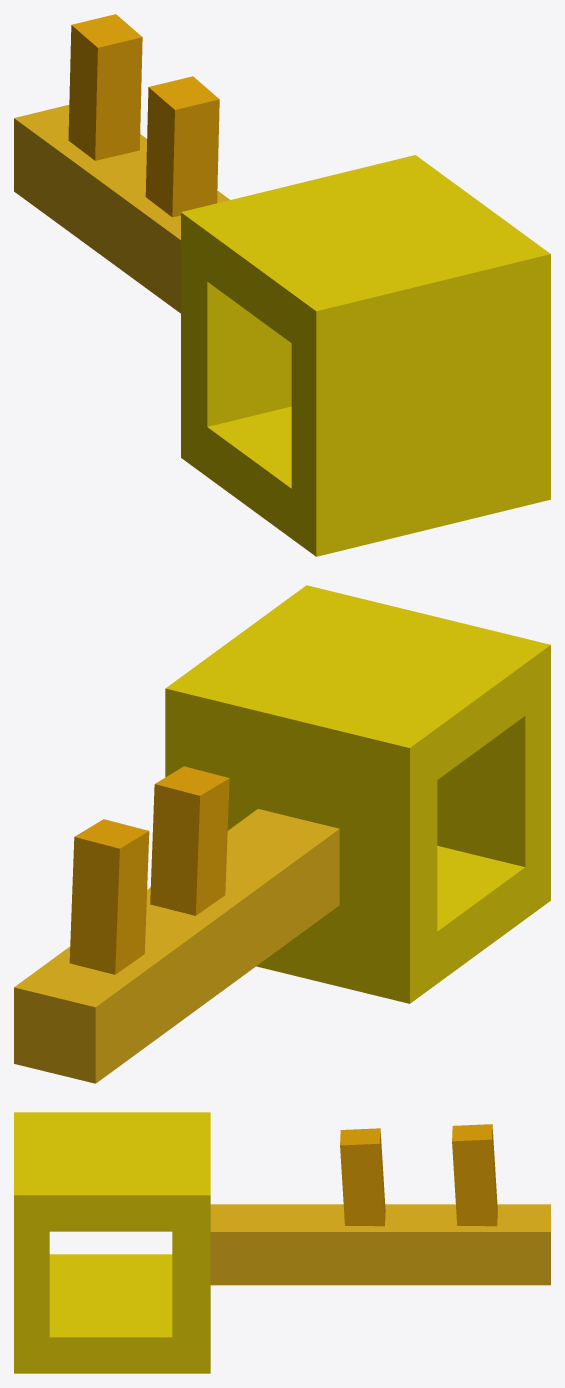
Rendered from key.glb.
3 renders of one model, top to bottom at view 1: azimuth 30°, elevation 25°; view 2: azimuth 150°, elevation 25°; view 3: azimuth 270°, elevation 25°, orthographic. The views are drawn at different scales.
Parts seen in each view (by area): view 1: Cube, Cube.001, Cube.003, Cube.002; view 2: Cube, Cube.001, Cube.003, Cube.002; view 3: Cube, Cube.001, Cube.003, Cube.002.
Part boxes in pixels (x1,y1,x2,y2): Cube: [181, 155, 550, 556]; Cube.001: [14, 105, 229, 313]; Cube.003: [68, 14, 142, 160]; Cube.002: [145, 76, 219, 217]; Cube: [165, 585, 550, 1003]; Cube.001: [14, 809, 339, 1083]; Cube.003: [69, 819, 149, 974]; Cube.002: [150, 766, 229, 915]; Cube: [14, 1112, 210, 1373]; Cube.001: [210, 1204, 550, 1285]; Cube.003: [452, 1124, 497, 1226]; Cube.002: [340, 1128, 385, 1226].
Size of the model in its own units: 2 by 2.2 by 5.46.
